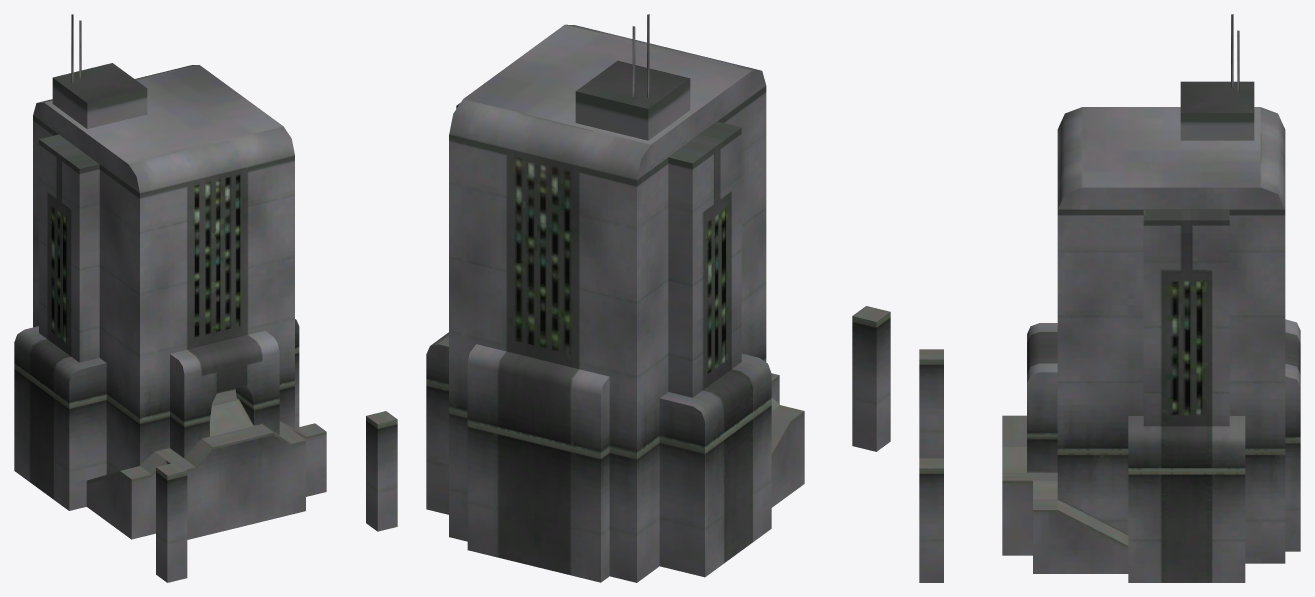
Rendered from ply_corl_capitol_s01_r0_mesh_l3.fbx.
3 renders of one model, left to right at view 1: azimuth 30°, elevation 25°; view 2: azimuth 150°, elevation 25°; view 3: azimuth 270°, elevation 25°, orthographic. The views are drawn at different scales.
Parts seen in each view (by area): view 1: mesh_node; view 2: mesh_node; view 3: mesh_node.
Boxes of the visible parts, <box> form: mesh_node: <box>14,14,397,582</box>; mesh_node: <box>426,14,890,582</box>; mesh_node: <box>919,14,1300,582</box>.
Size of the model in its own units: 46 by 85.5 by 62.01.
